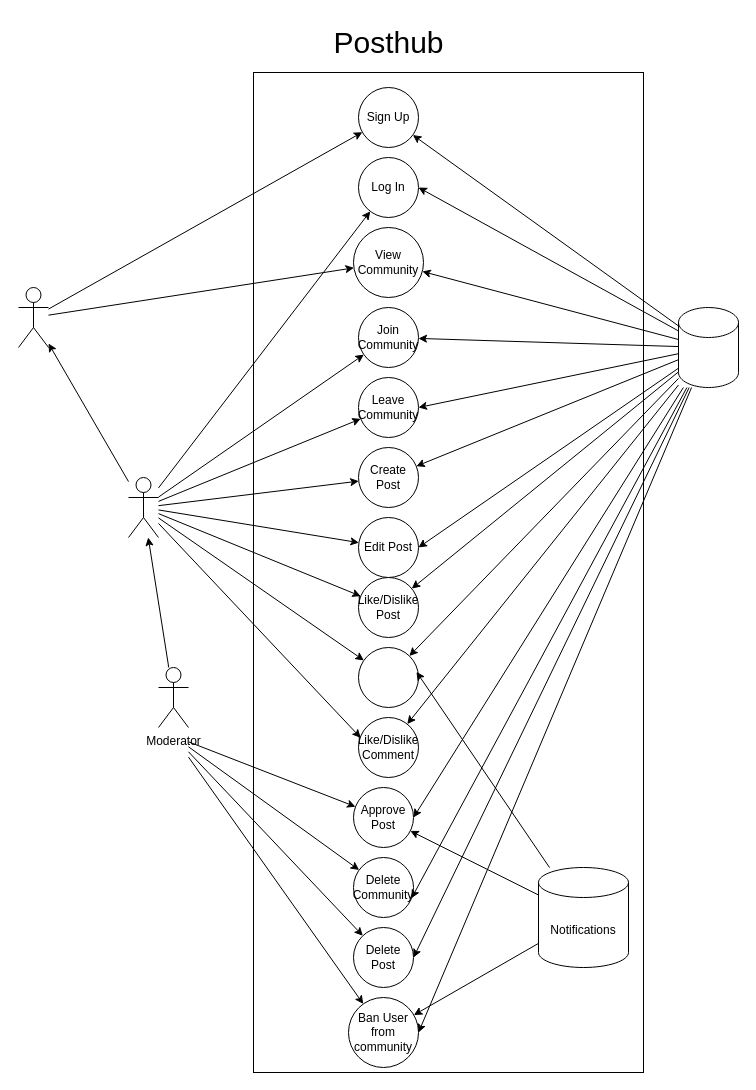
The diagram is 756 pixels wide and 1090 high, and some of its shapes have lost their labels. The shapes that lost their labels are listed below. From the top down, each one's centre as x and y in pixels, then its label:
At (33,317): "Guest".
At (708,347): "Firebase".
At (143,507): "Registered User".
At (388,677): "Comment on Post".
